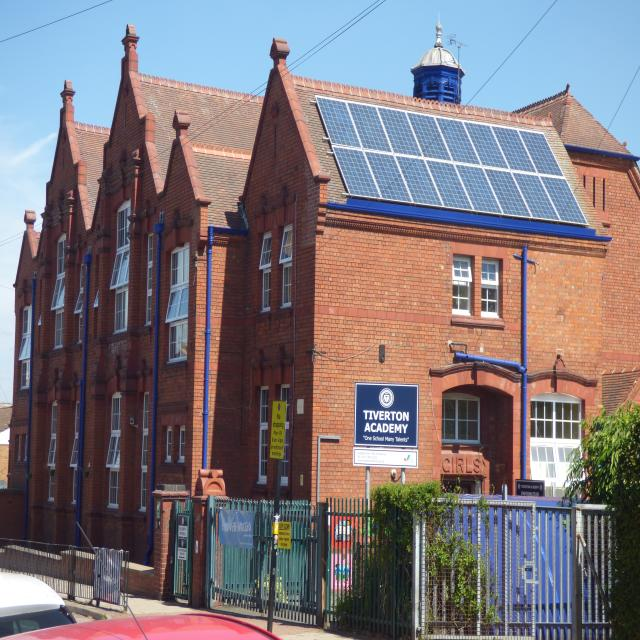clean-solar-panel: (316, 97, 585, 225)
